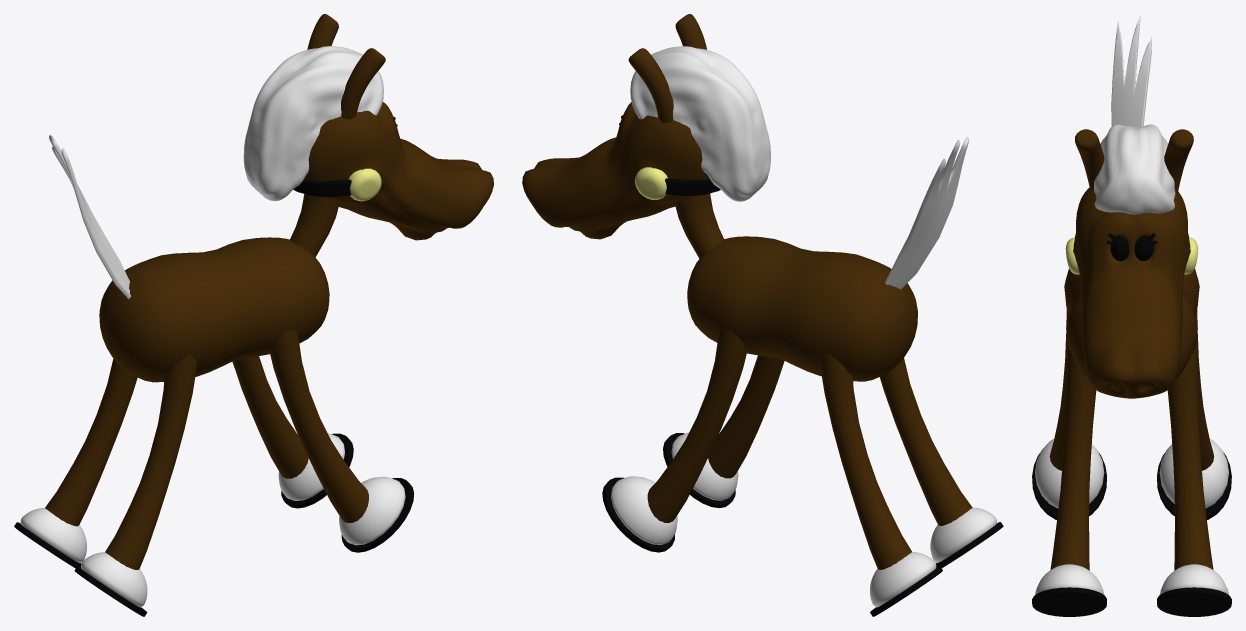
The model's file is Horse.fbx.
The picture shows the model from 3 angles, left to right: view 1: azimuth 30°, elevation 25°; view 2: azimuth 150°, elevation 25°; view 3: azimuth 270°, elevation 25°; orthographic projection. The views are drawn at different scales.
Visible parts, largest first — view 1: polySurface46; view 2: polySurface46; view 3: polySurface46.
Part boxes in pixels (left/top/right/bottom): polySurface46: left=14, top=14, right=493, bottom=616; polySurface46: left=522, top=14, right=1003, bottom=616; polySurface46: left=1032, top=15, right=1231, bottom=616.
Size of the model in its own units: 7.66 by 8.34 by 2.93.
